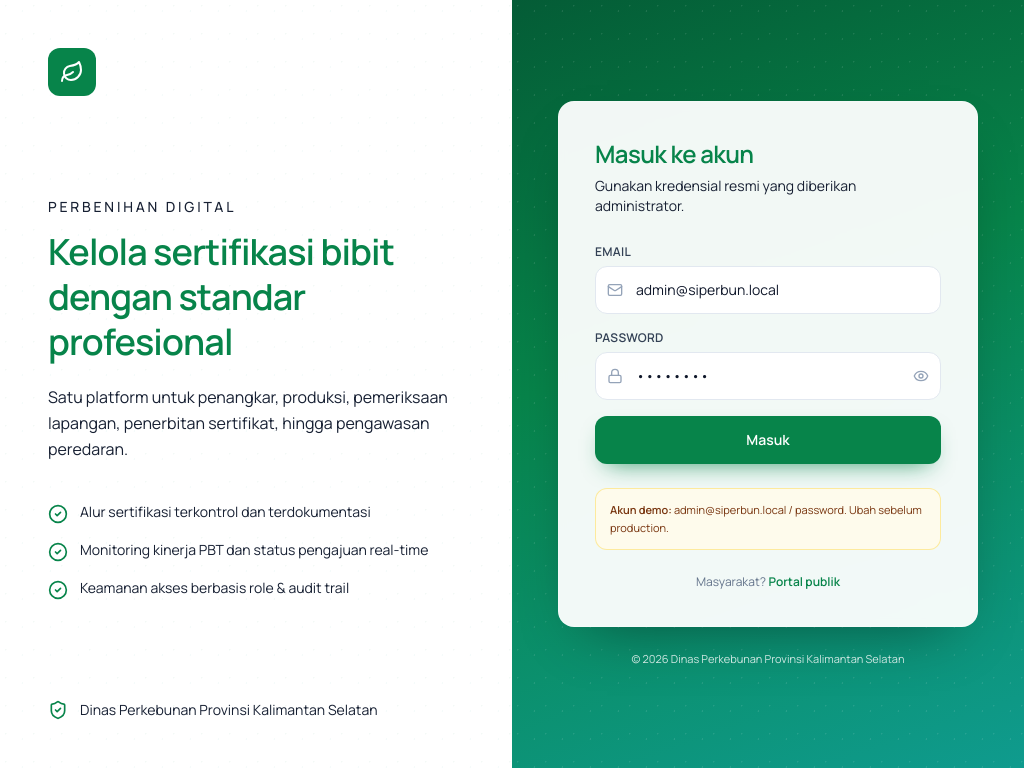
LoginPage › shows validation errors on empty submit
Clear the field labelled "Email" at (768, 290), box [595, 266, 941, 314]
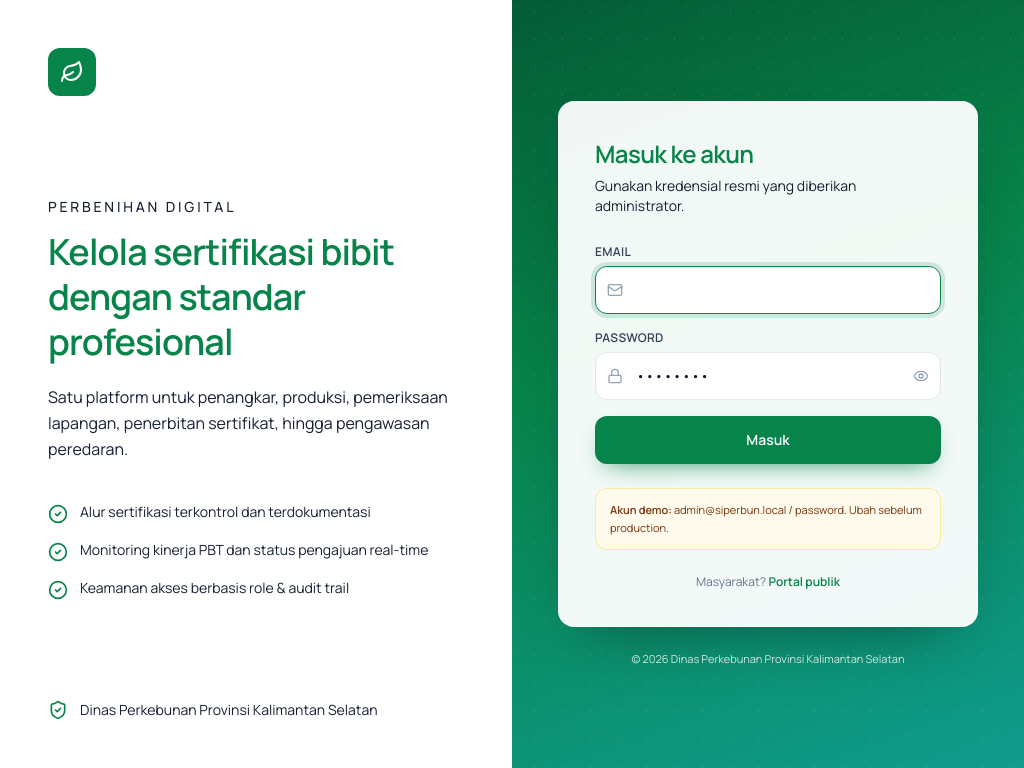
Clear the password field labelled "Password" at (768, 376), box [595, 352, 941, 400]
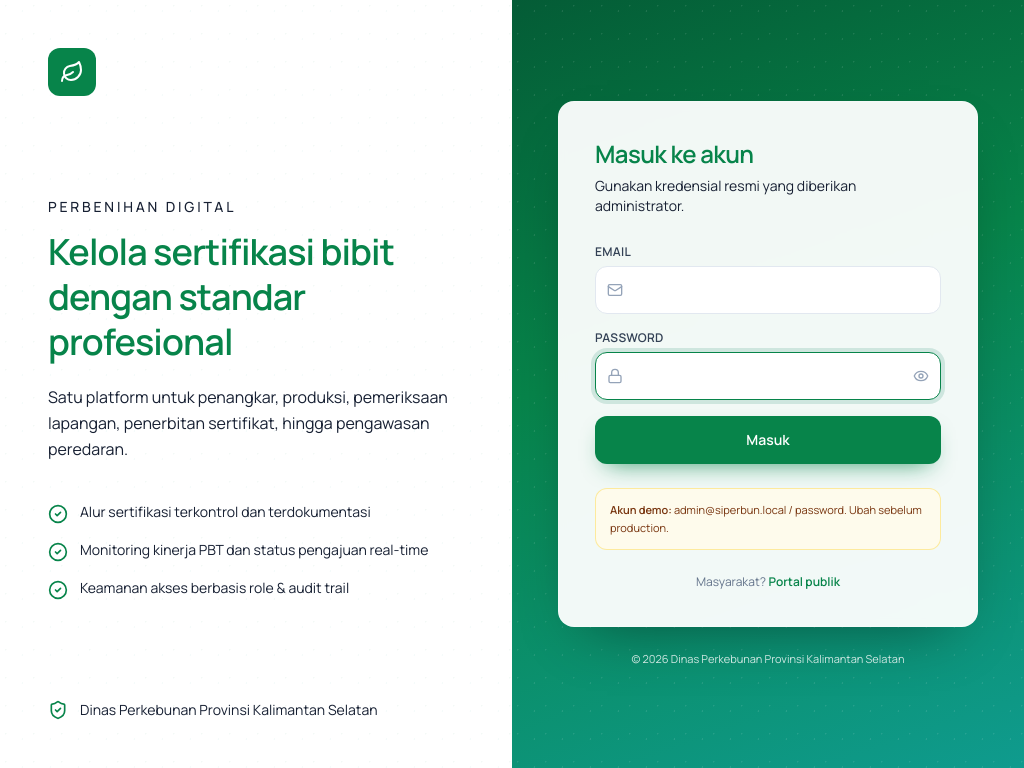
Click the button "Masuk".
click(768, 440)  # box [595, 416, 941, 464]
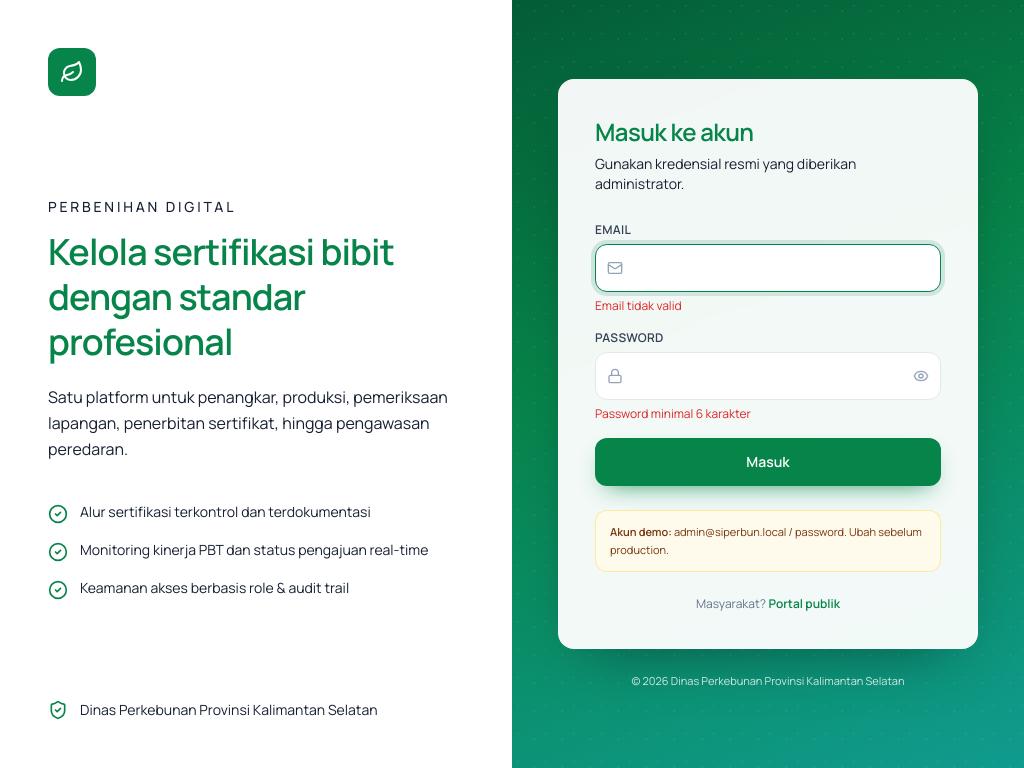
Expected: the text "Email tidak valid" is shown, [595, 297, 682, 314]
Expected: the text "Password minimal 6 karakter" is shown, [595, 405, 751, 422]
